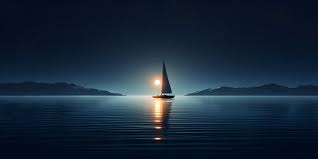boat: (155, 60, 174, 100)
